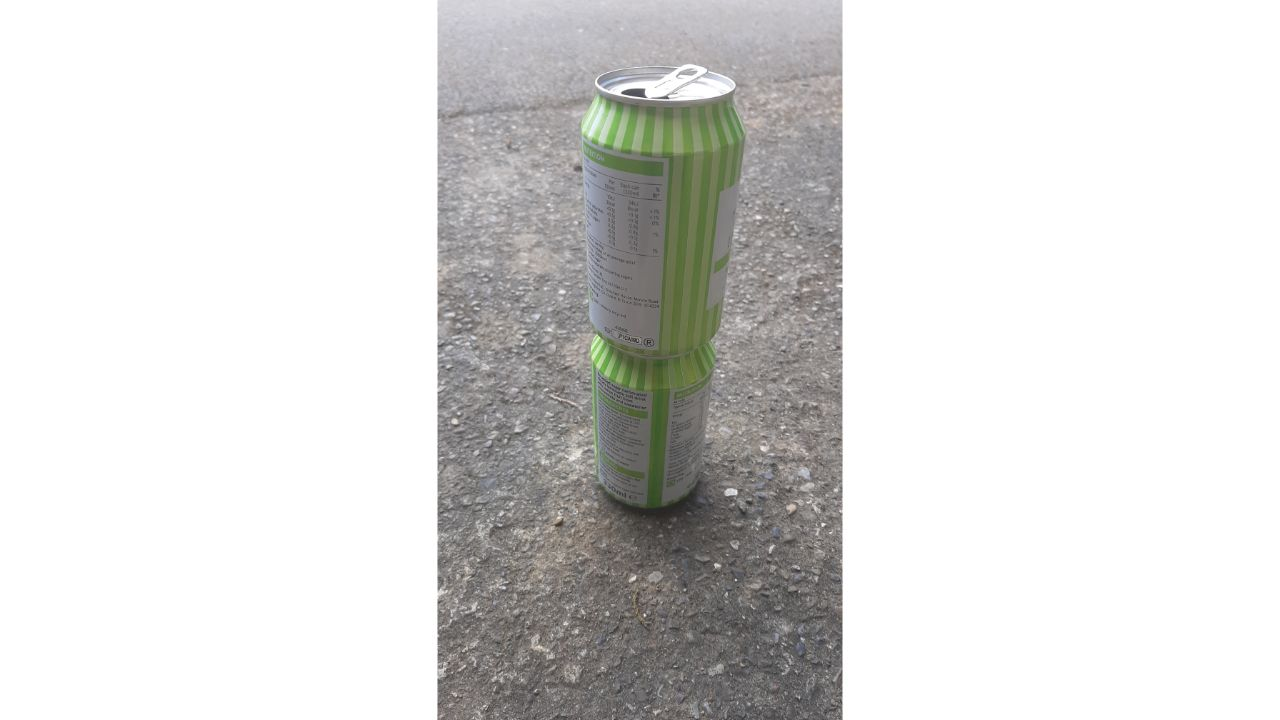Can: (573, 49, 749, 362), (572, 327, 719, 522)
